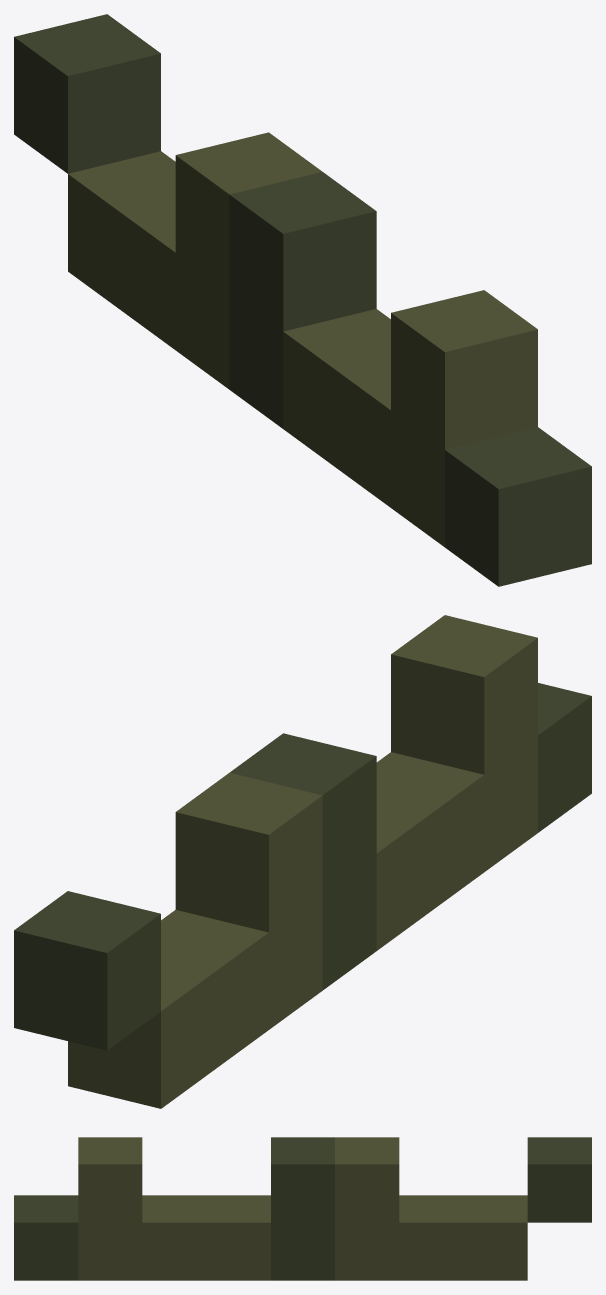
Rendered from Wing-24-CamoJet_Fin1_R.obj.
The picture shows the model from 3 angles, top to bottom: view 1: azimuth 30°, elevation 25°; view 2: azimuth 150°, elevation 25°; view 3: azimuth 270°, elevation 25°; orthographic projection. The views are drawn at different scales.
Parts seen in each view (by area): view 1: CamoJet_Fin1_R; view 2: CamoJet_Fin1_R; view 3: CamoJet_Fin1_R.
Boxes of the visible parts, <box> form: CamoJet_Fin1_R: <box>14,14,591,586</box>; CamoJet_Fin1_R: <box>14,615,591,1108</box>; CamoJet_Fin1_R: <box>14,1137,591,1280</box>.
Bounding box in the file's own units: 0.1 × 0.2 × 0.9.
